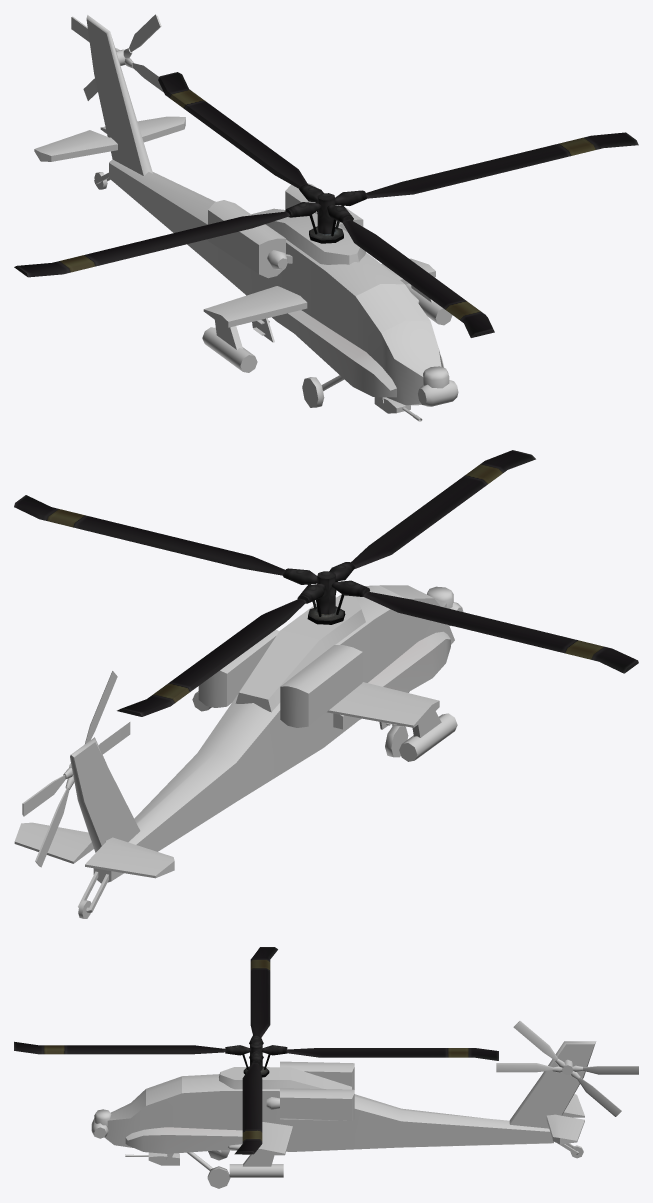
File: LP_Apache.fbx
3 views of the same model, one above another, from view 1: azimuth 30°, elevation 25°; view 2: azimuth 150°, elevation 25°; view 3: azimuth 270°, elevation 25° (orthographic). The views are drawn at different scales.
Parts seen in each view (by area): view 1: Apache_Body, MainRotor, Tail_Rotor; view 2: Apache_Body, MainRotor, Tail_Rotor; view 3: Apache_Body, MainRotor, Tail_Rotor.
Boxes of the visible parts, bbox=[...] form: Apache_Body: bbox=[34, 15, 458, 421]; MainRotor: bbox=[14, 72, 638, 337]; Tail_Rotor: bbox=[71, 14, 163, 100]; Apache_Body: bbox=[14, 585, 463, 918]; MainRotor: bbox=[14, 450, 638, 716]; Tail_Rotor: bbox=[22, 671, 130, 867]; Apache_Body: bbox=[91, 1041, 595, 1188]; MainRotor: bbox=[14, 947, 498, 1154]; Tail_Rotor: bbox=[496, 1021, 638, 1116].
Bounding box in the file's own units: 8.53 × 3.07 × 10.99.
